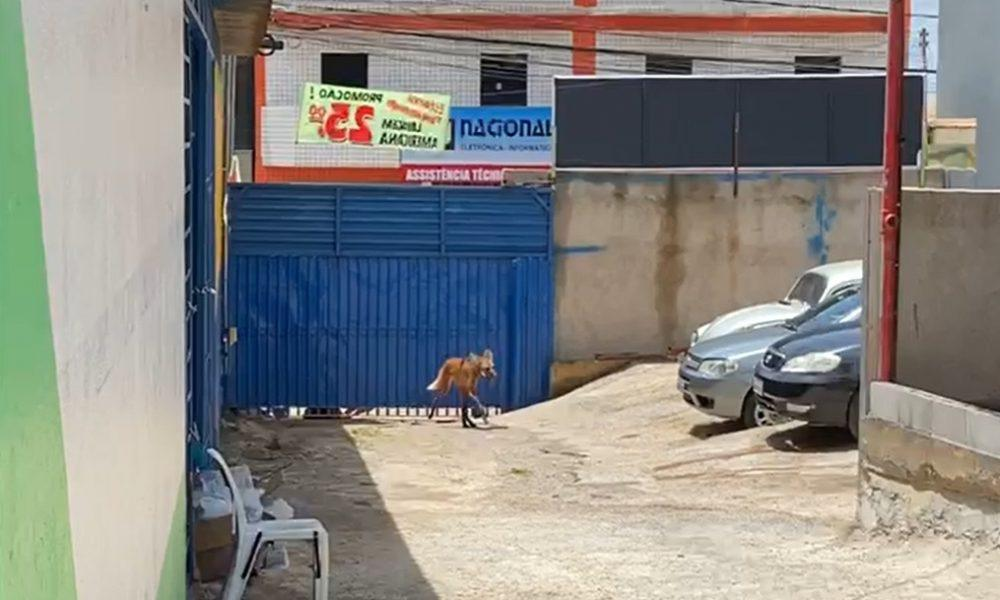LoboGuara: (417, 348, 513, 433)
